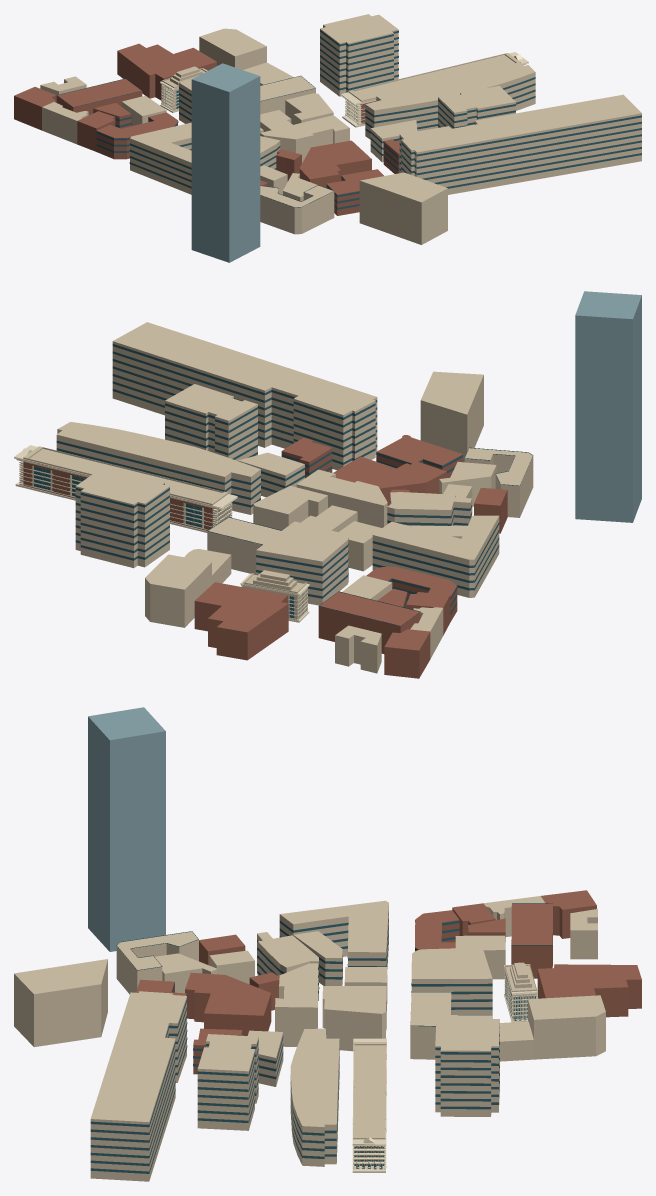
File: city_-3_1.glb
3 renders of one model, top to bottom at view 1: azimuth 30°, elevation 25°; view 2: azimuth 150°, elevation 25°; view 3: azimuth 270°, elevation 25°, orthographic. The views are drawn at different scales.
Parts seen in each view (by area): view 1: city_-3_1; view 2: city_-3_1; view 3: city_-3_1.
Boxes of the visible parts, left/top/right/bottom form: city_-3_1: left=14, top=14, right=641, bottom=262; city_-3_1: left=14, top=291, right=641, bottom=678; city_-3_1: left=14, top=707, right=641, bottom=1181.
Size of the model in its own units: 289 by 109 by 292.
